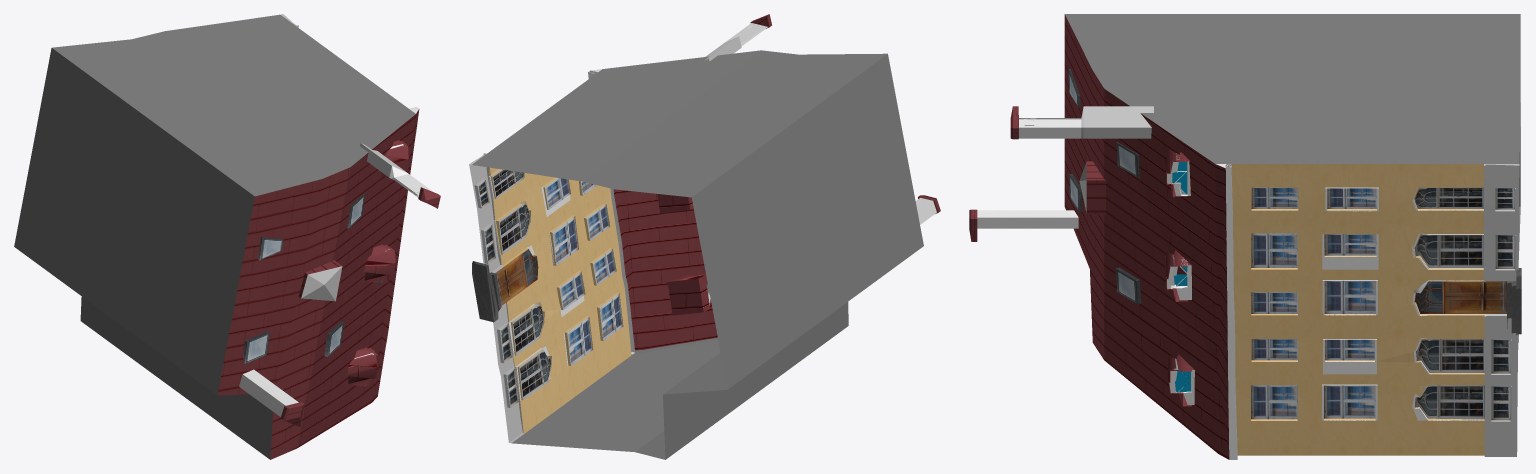
Rendered from Rataskaevu_4-origo.obj.
3 renders of one model, left to right at view 1: azimuth 30°, elevation 25°; view 2: azimuth 150°, elevation 25°; view 3: azimuth 270°, elevation 25°, orthographic. The views are drawn at different scales.
Parts seen in each view (by area): view 1: Rataskaevu_4; view 2: Rataskaevu_4; view 3: Rataskaevu_4.
Part boxes in pixels (box(x1,y1,x2,y2)): Rataskaevu_4: box(14, 14, 440, 459); Rataskaevu_4: box(469, 14, 940, 459); Rataskaevu_4: box(969, 14, 1521, 459).
Bounding box in the file's own units: 12.81 × 13.5 × 19.97.
